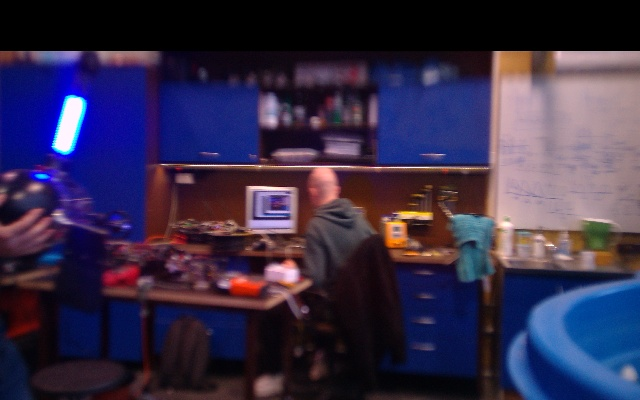blue: (50, 94, 87, 155)
